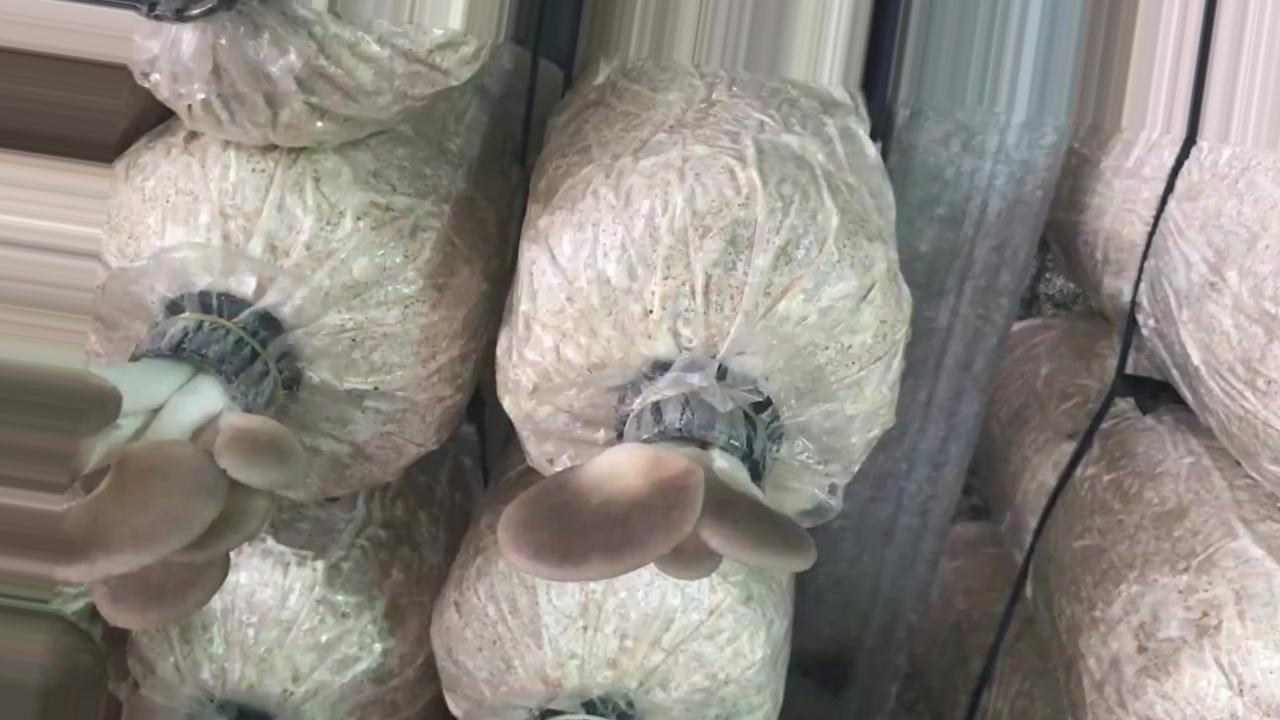nam: (1, 314, 317, 634), (495, 368, 821, 587)
